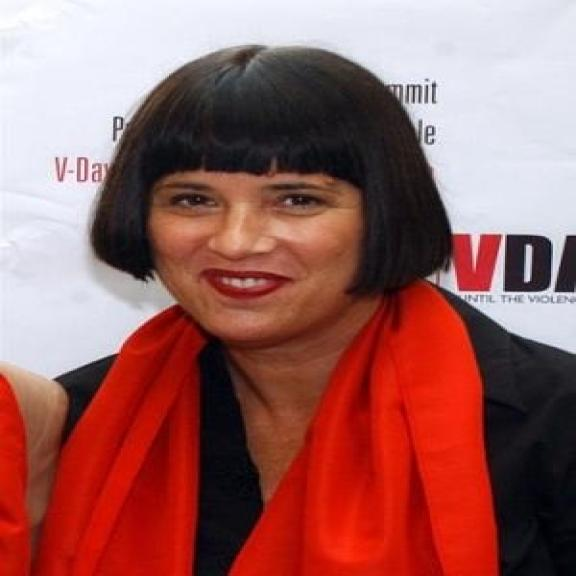face: (136, 67, 406, 351)
